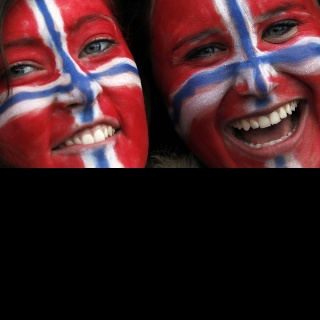without_mask: (146, 0, 320, 168)
